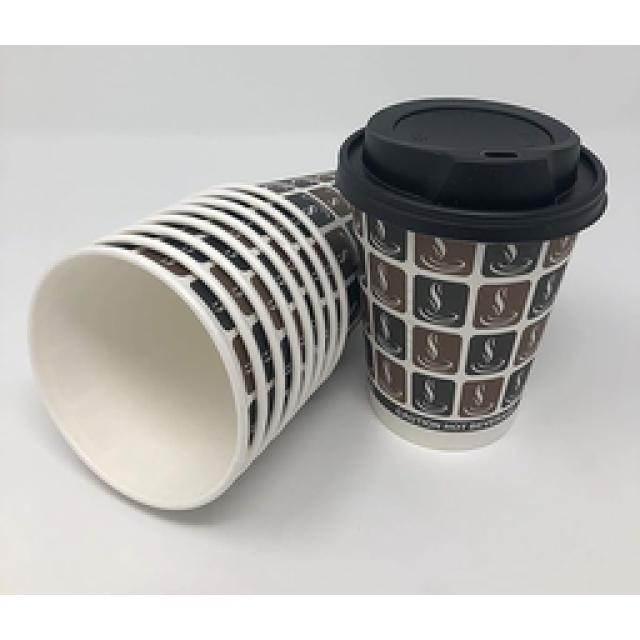paper_cups: (30, 180, 357, 512), (336, 95, 604, 455)
